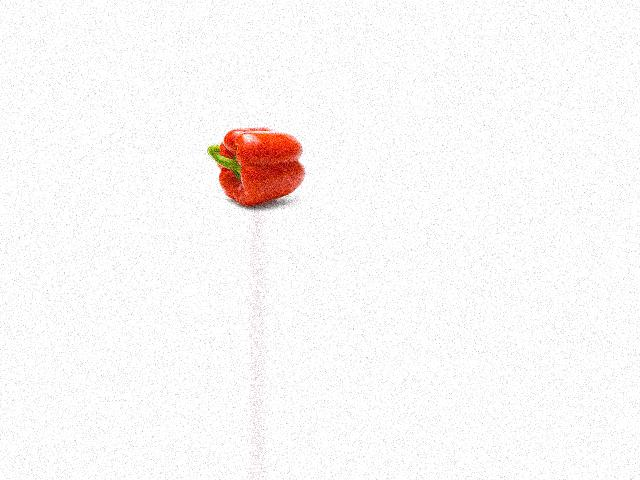bell_pepper: (201, 127, 313, 204)
